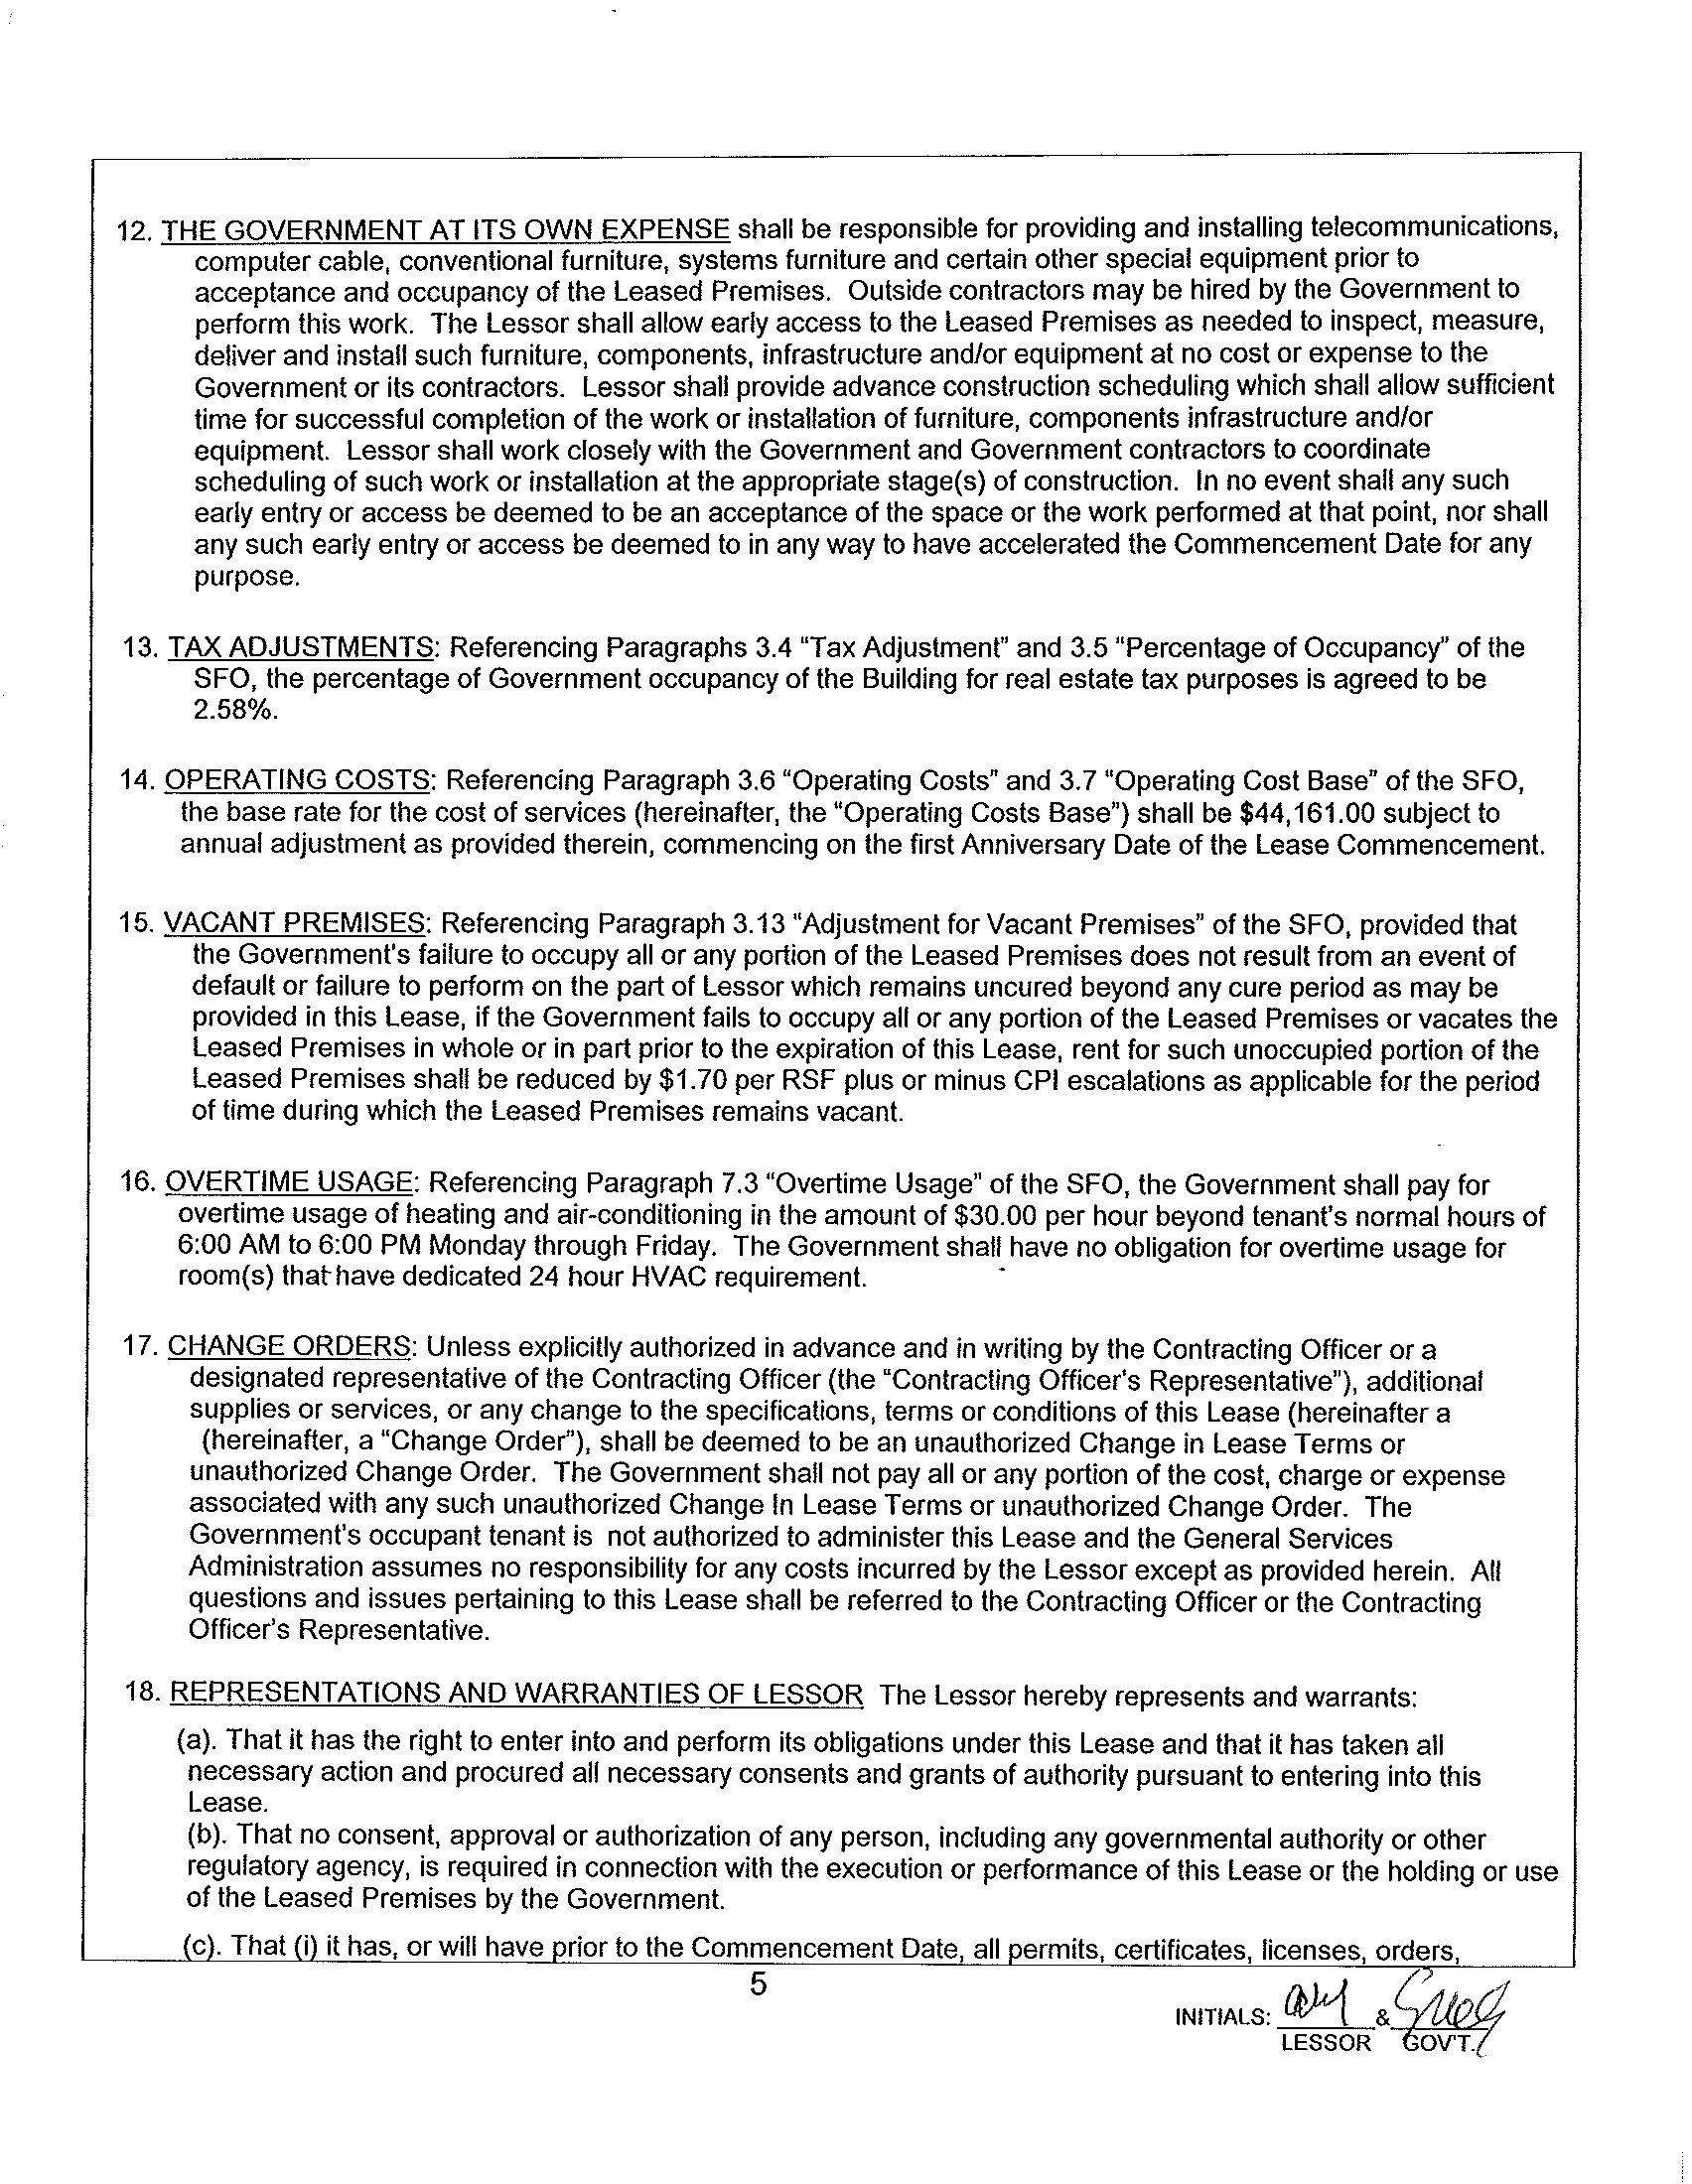handwritten: (1383, 1966, 1513, 2033), (1281, 1971, 1357, 2028), (1472, 2032, 1502, 2062)
